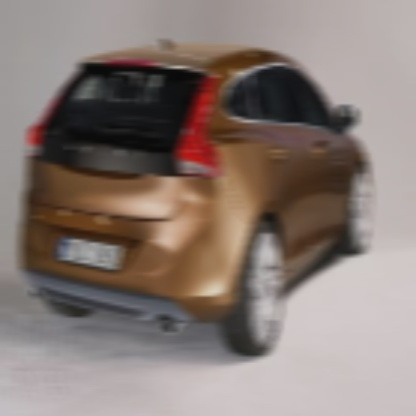Vehicle: (16, 35, 378, 368)
